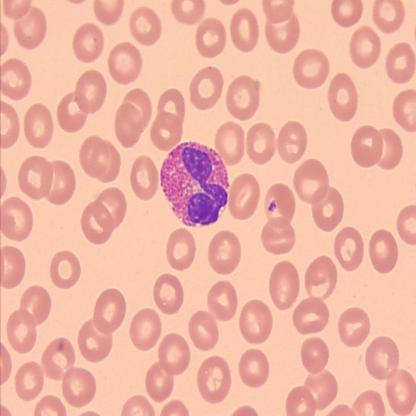Eosinophil: (158, 139, 230, 228)
